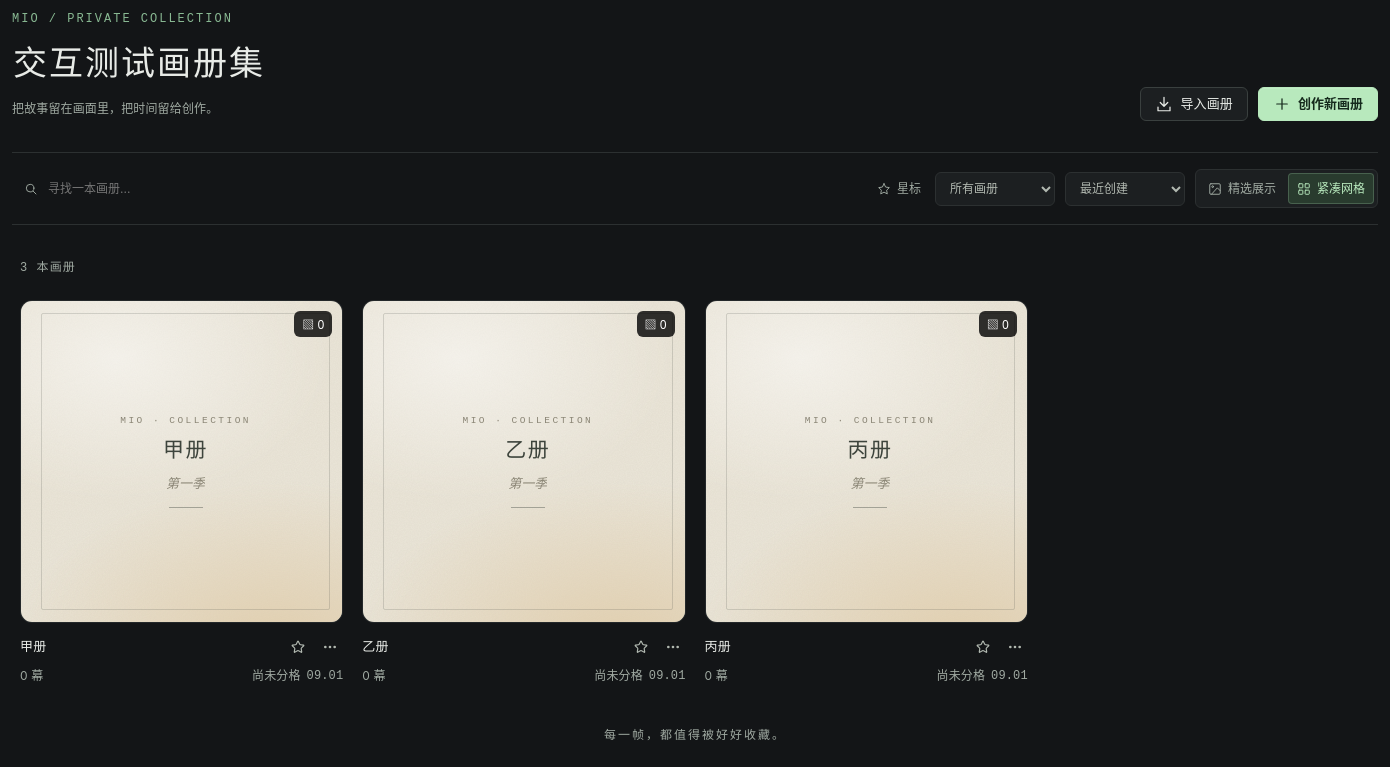
Test: legacy shelf selection › plain cover activation clears selection instead of leaving it behind the reader
The image size is (1390, 767).
Expected: the element "甲册" is shown, 20,300 -> 343,687
Click the button with aria-label "甲册" at [182, 462], box 20,300 -> 343,623
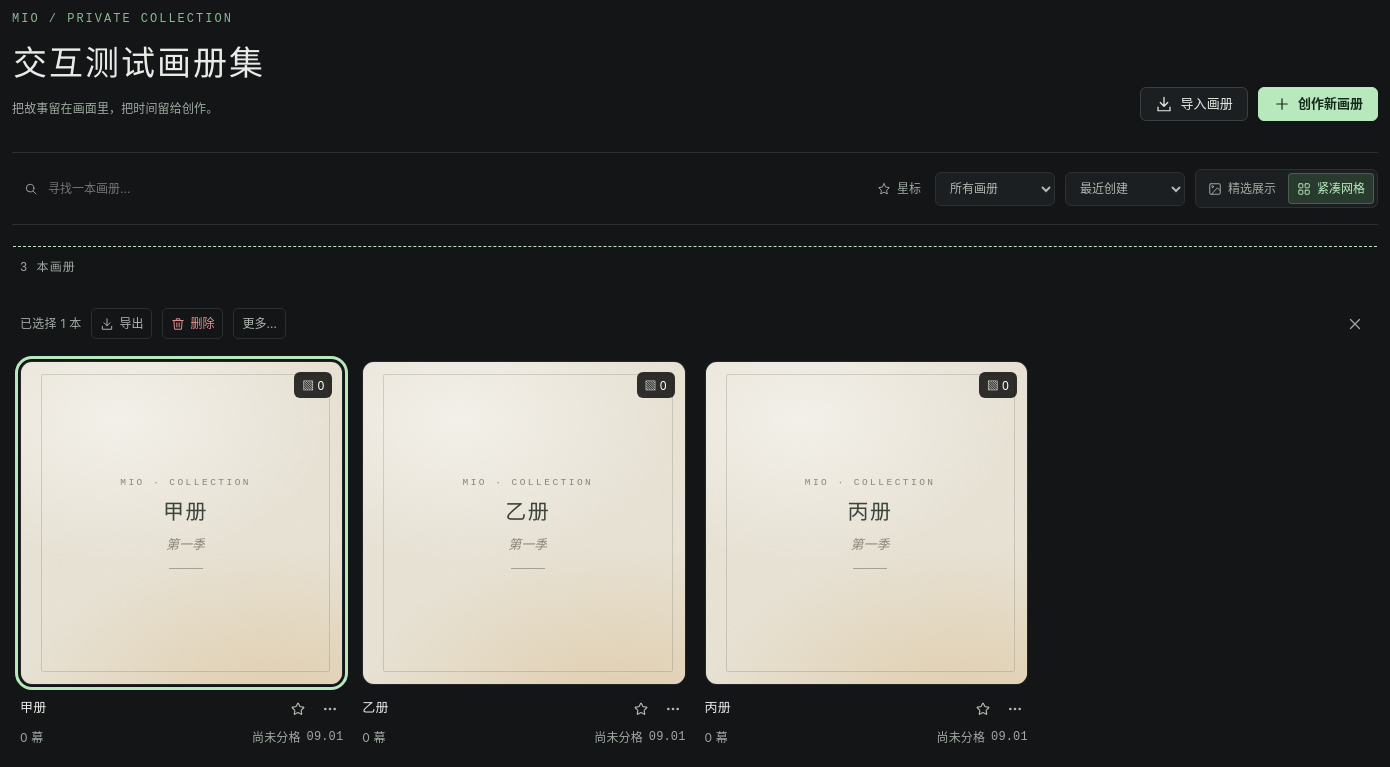
Click the button with aria-label "乙册" at [524, 523], box 362,361 -> 686,685
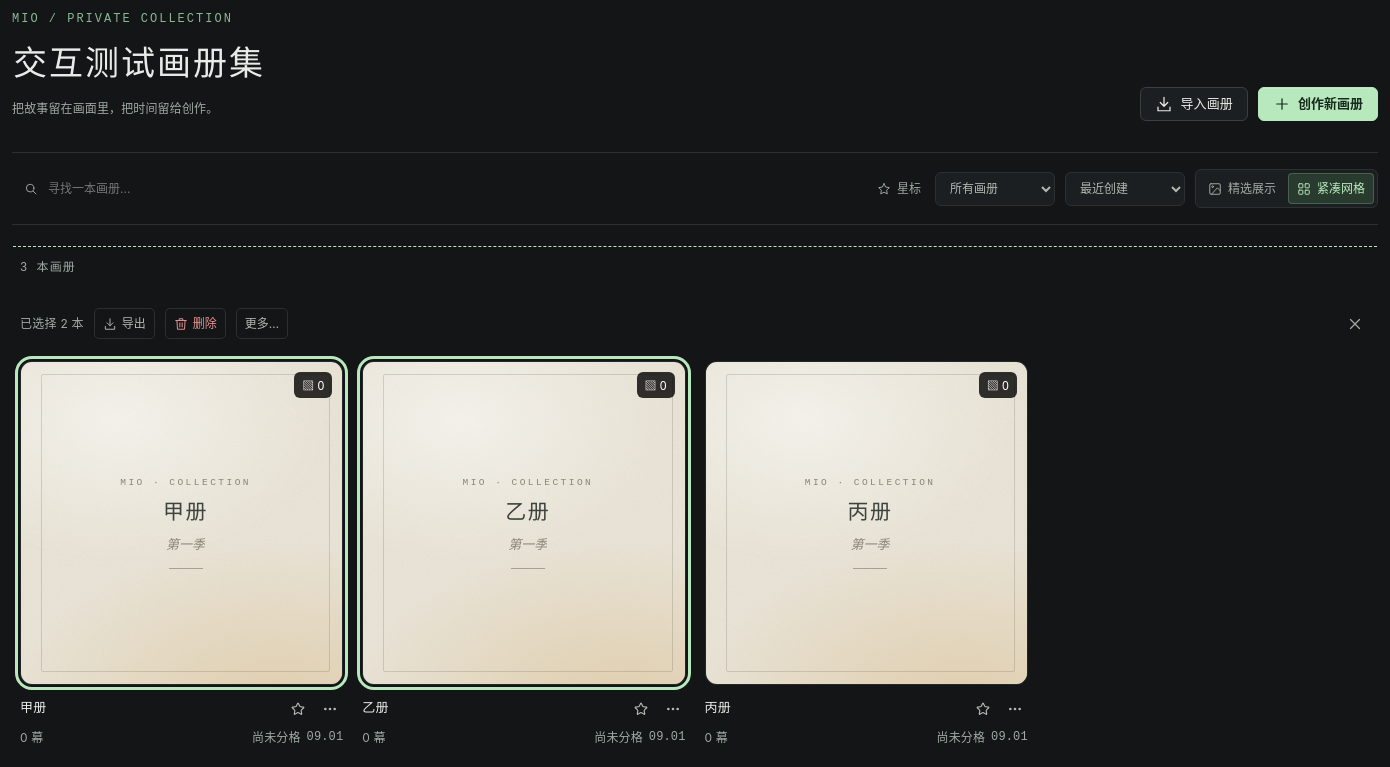
Click the button with aria-label "甲册" at [182, 523], box 20,361 -> 343,685
(page scrolled)
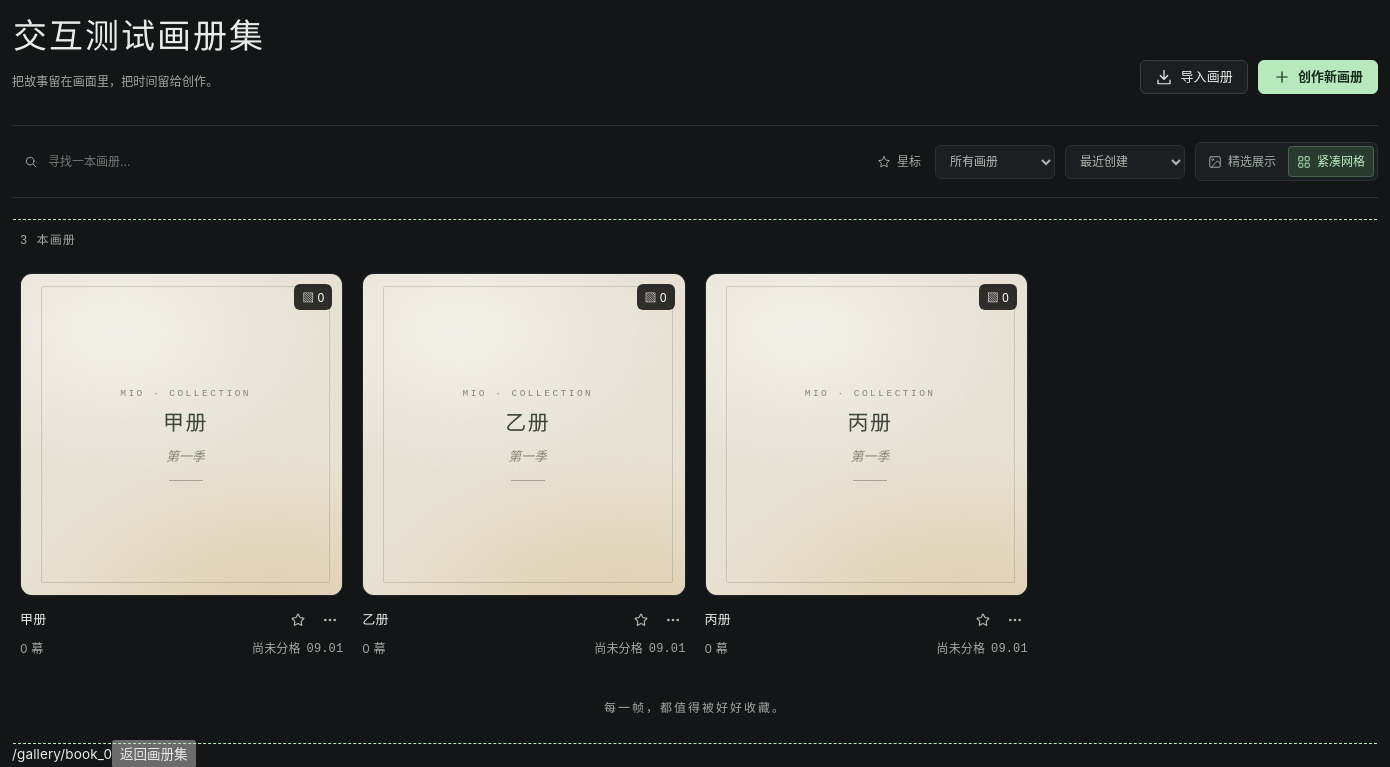
Expected: the text named "测试路径" reads "/gallery/book_0", 12,746 -> 112,762
